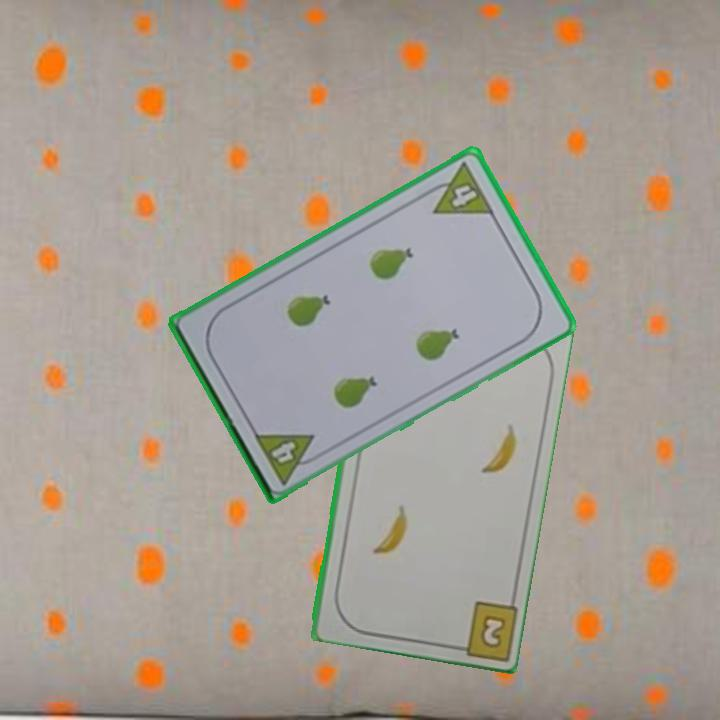2b: (476, 610, 509, 651)
4p: (419, 158, 497, 218), (250, 428, 326, 487)
